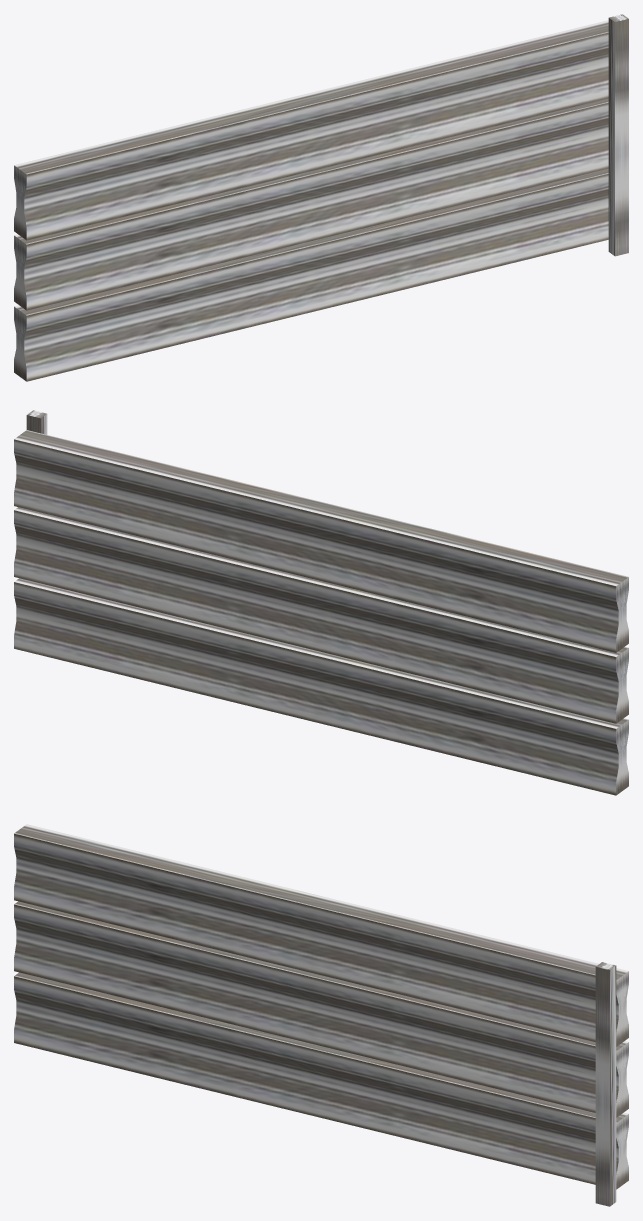
The model's file is Guard_Rail.fbx.
The picture shows the model from 3 angles, top to bottom: view 1: azimuth 30°, elevation 25°; view 2: azimuth 150°, elevation 25°; view 3: azimuth 330°, elevation 25°; orthographic projection.
Visible parts, largest first — view 1: Guard_Rail; view 2: Guard_Rail; view 3: Guard_Rail.
Boxes of the visible parts, box(x1,y1,x2,y2) form: Guard_Rail: box(14, 14, 628, 381); Guard_Rail: box(14, 410, 628, 795); Guard_Rail: box(14, 824, 628, 1206).
Bounding box in the file's own units: 276 × 104 × 15.22.
